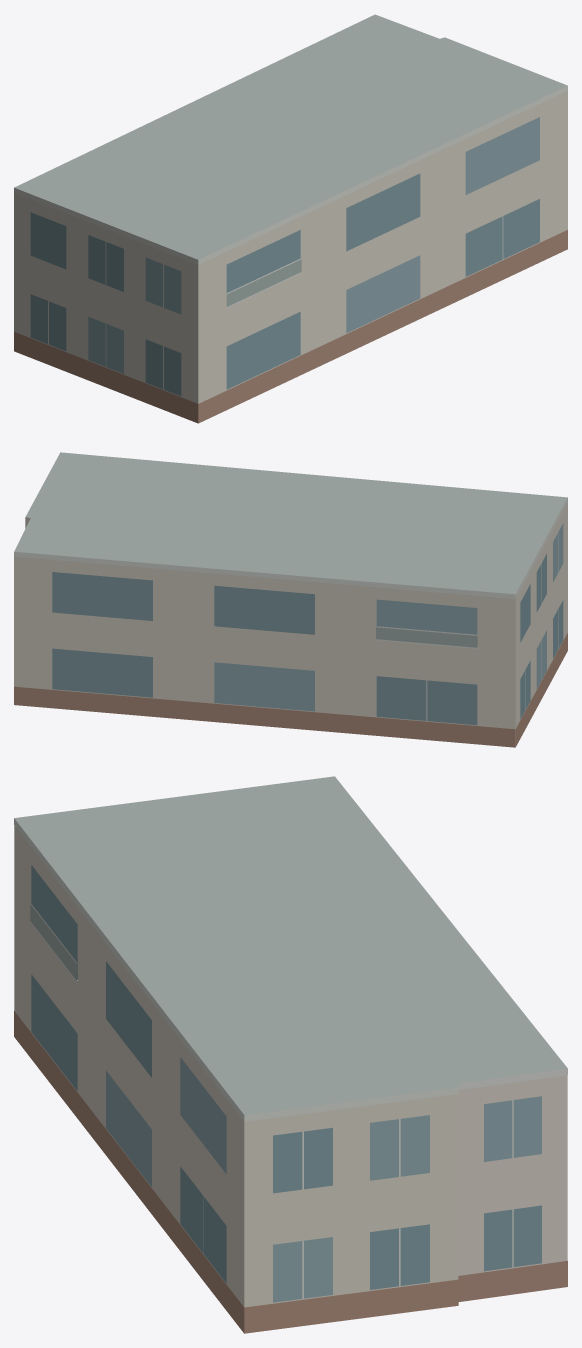
Rendered from survey-upis-32499393.glb.
3 views of the same model, one above another, from view 1: azimuth 30°, elevation 25°; view 2: azimuth 150°, elevation 25°; view 3: azimuth 270°, elevation 25° (orthographic). The views are drawn at different scales.
Visible parts, largest first — view 1: survey-upis-32499393.tmp; view 2: survey-upis-32499393.tmp; view 3: survey-upis-32499393.tmp.
Part boxes in pixels (left/top/right/bottom): survey-upis-32499393.tmp: left=14, top=14, right=567, bottom=423; survey-upis-32499393.tmp: left=14, top=452, right=567, bottom=747; survey-upis-32499393.tmp: left=14, top=776, right=567, bottom=1333.
Size of the model in its own units: 26.11 by 7.85 by 18.04.
